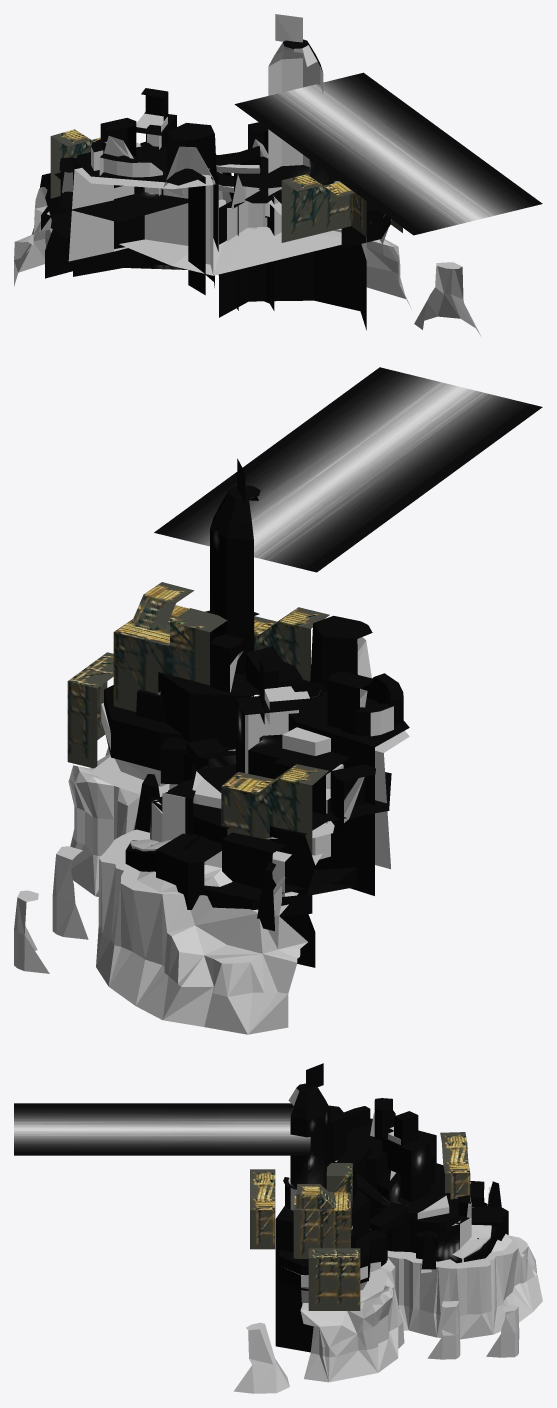
File: T_WatchTower_01.fbx
3 renders of one model, top to bottom at view 1: azimuth 30°, elevation 25°; view 2: azimuth 150°, elevation 25°; view 3: azimuth 270°, elevation 25°, orthographic. The views are drawn at different scales.
Parts seen in each view (by area): view 1: FX_Territory_NightGlow, T_WatchTower_01, Light01, T_BuildForm_03 (2), T_BuildForm_03 (1); view 2: FX_Territory_NightGlow, T_WatchTower_01, Light01, T_BuildForm_01, T_BuildForm_03 (1), T_BuildForm_02 (4), T_BuildForm_03 (2); view 3: FX_Territory_NightGlow, T_WatchTower_01, Light01, T_BuildForm_01, T_BuildForm_02 (4), T_BuildForm_03 (2), T_BuildForm_03 (1).
Part boxes in pixels (box(x1,y1,x2,y2)): FX_Territory_NightGlow: box(40, 39, 390, 330); T_WatchTower_01: box(14, 14, 480, 335); Light01: box(234, 72, 542, 235); T_BuildForm_03 (2): box(281, 174, 366, 242); T_BuildForm_03 (1): box(50, 129, 100, 198); FX_Territory_NightGlow: box(104, 458, 409, 967); T_WatchTower_01: box(14, 610, 409, 1034); Light01: box(154, 367, 542, 572); T_BuildForm_01: box(113, 582, 227, 711); T_BuildForm_03 (1): box(221, 764, 328, 855); T_BuildForm_02 (4): box(67, 652, 113, 768); T_BuildForm_03 (2): box(254, 607, 329, 695); FX_Territory_NightGlow: box(275, 1063, 508, 1352); T_WatchTower_01: box(233, 1088, 542, 1393); Light01: box(14, 1103, 310, 1155); T_BuildForm_01: box(293, 1163, 352, 1258); T_BuildForm_02 (4): box(308, 1248, 360, 1310); T_BuildForm_03 (2): box(250, 1169, 275, 1249); T_BuildForm_03 (1): box(440, 1132, 470, 1199).
Size of the model in its own units: 13.75 by 13.09 by 23.54.
